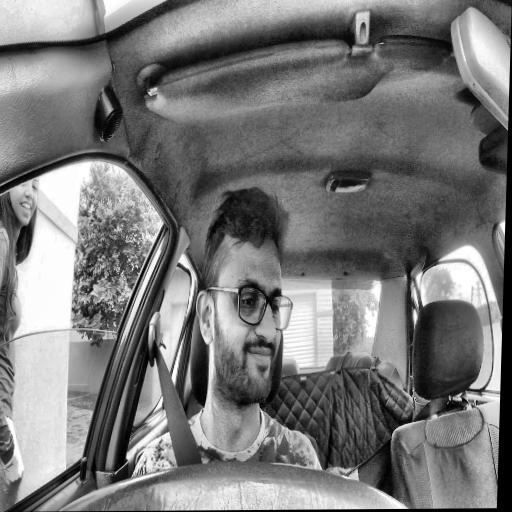awake: (193, 184, 297, 409)
